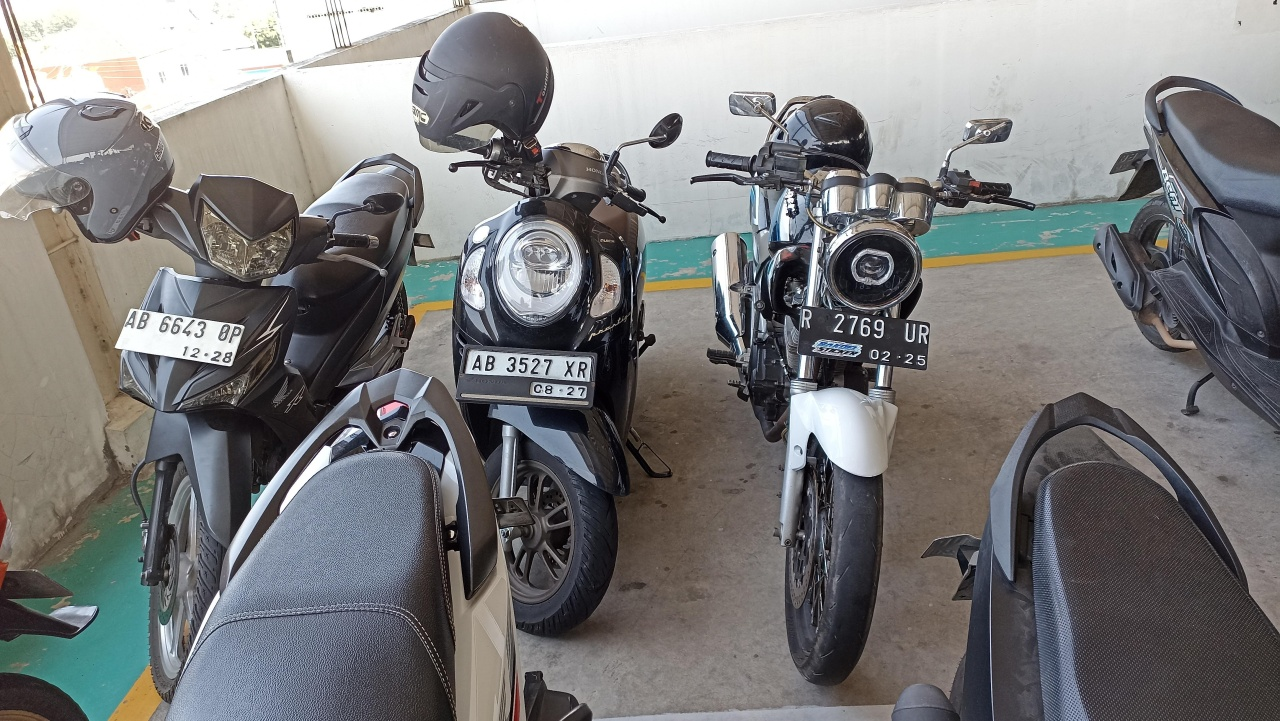plate: (798, 306, 931, 370), (457, 346, 596, 406), (115, 308, 244, 366)
